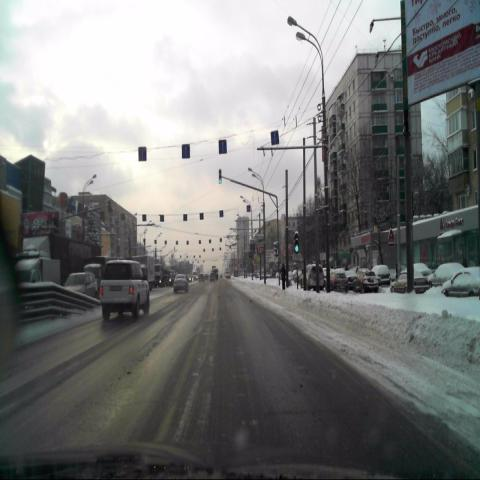5_15_2: (138, 146, 146, 160), (182, 144, 190, 158), (219, 140, 227, 154), (270, 130, 278, 144)
